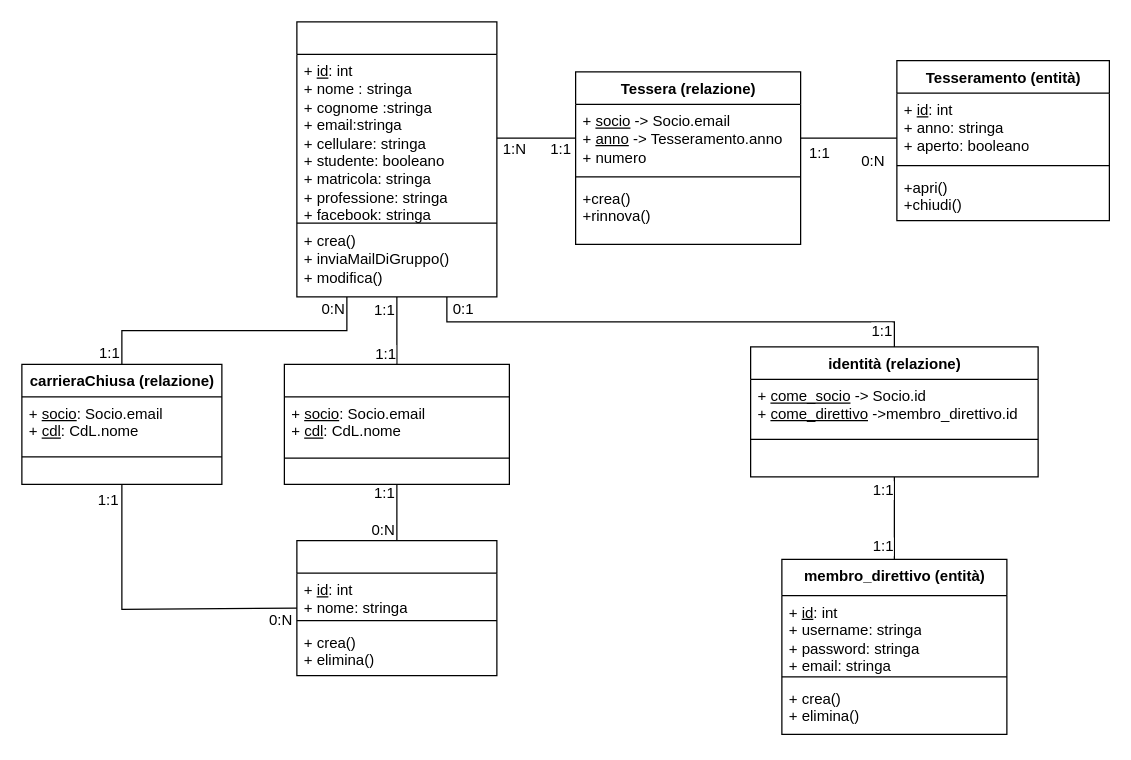
Some shapes in this 1131 by 760 pixel diagram are drawn without their labels. The box of each missing label's shape, as (x1, y1, x2, y2) in pixels:
carrieraAttiva (relazione): (283, 363, 509, 484)
CdL (entità): (296, 539, 497, 676)
Socio (entità): (296, 21, 497, 297)
